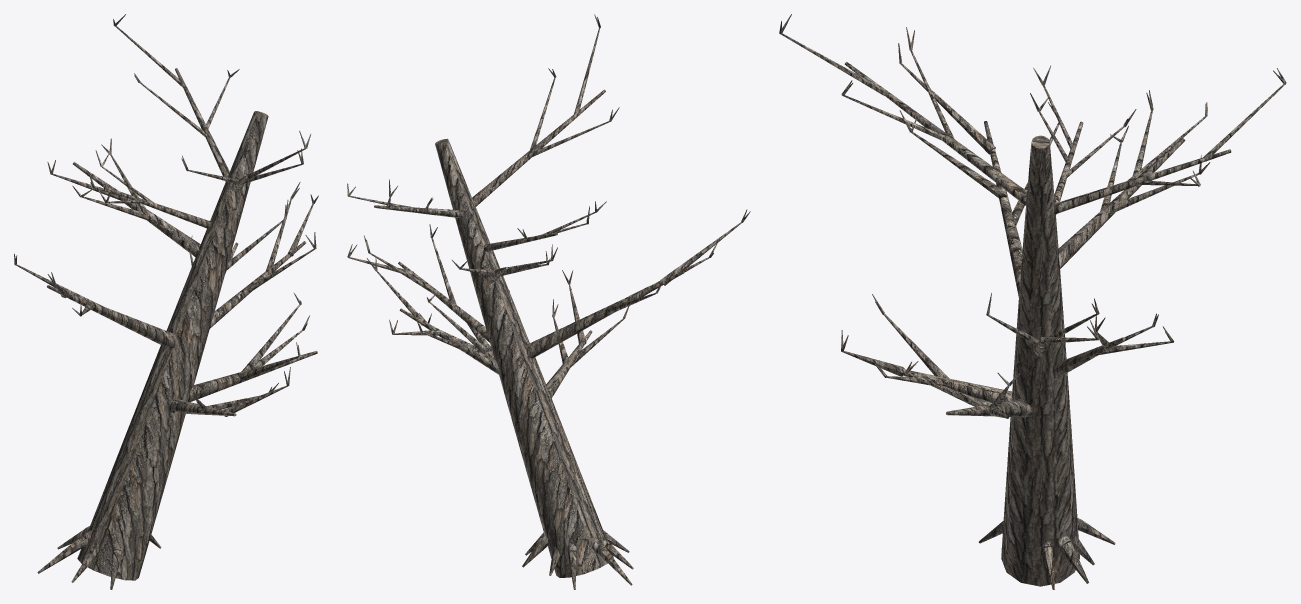
The model's file is uprooted-leaning-v02.glb.
3 renders of one model, left to right at view 1: azimuth 30°, elevation 25°; view 2: azimuth 150°, elevation 25°; view 3: azimuth 270°, elevation 25°, orthographic. The views are drawn at different scales.
Visible parts, largest first — view 1: dead-tree-lean; view 2: dead-tree-lean; view 3: dead-tree-lean.
Boxes of the visible parts, x1,y1,x2,y2 form: dead-tree-lean: [14, 14, 318, 589]; dead-tree-lean: [347, 14, 750, 589]; dead-tree-lean: [779, 14, 1286, 589].
Bounding box in the file's own units: 6.83 × 9.38 × 7.07.
Materials: 1 (1 with a texture image).
